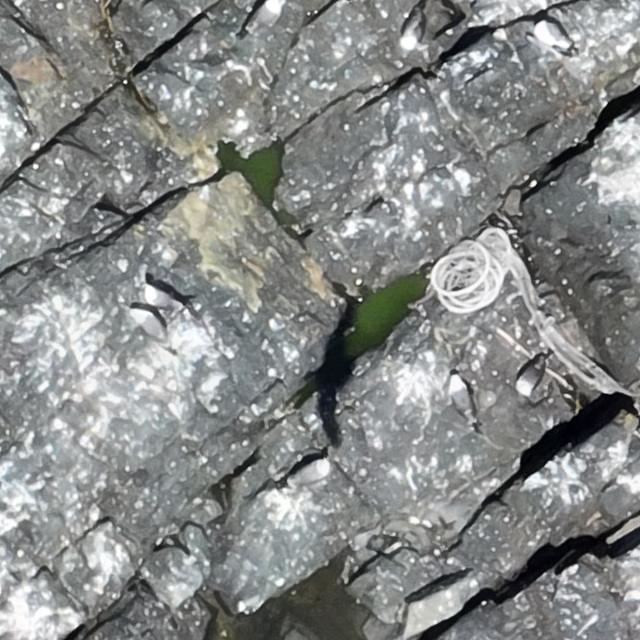umineko: (282, 459, 331, 494), (130, 308, 167, 349), (242, 1, 284, 34), (535, 20, 574, 51), (516, 358, 547, 394), (401, 7, 426, 49), (145, 285, 184, 311), (453, 381, 471, 416)
